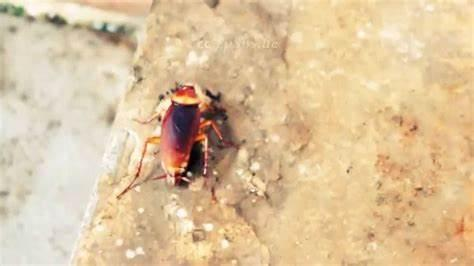cockroach: (149, 81, 210, 187)
